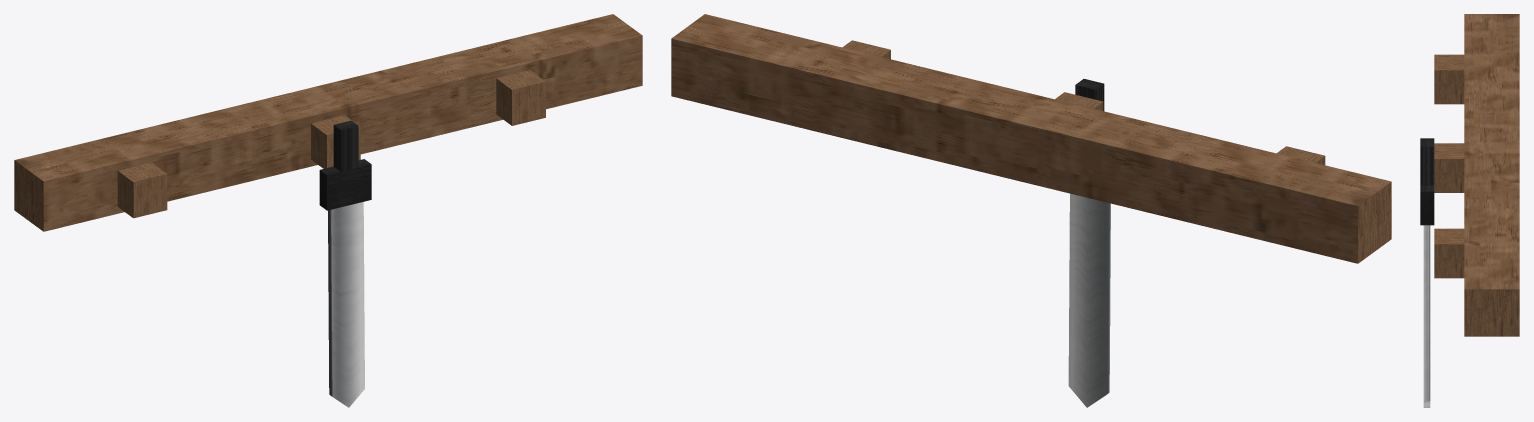
The model's file is weaponrack.fbx.
3 views of the same model, side by side, from view 1: azimuth 30°, elevation 25°; view 2: azimuth 150°, elevation 25°; view 3: azimuth 270°, elevation 25° (orthographic). The views are drawn at different scales.
Visible parts, largest first — view 1: pCube17, pCube15, pCube16, pCube18, pCube20, pCube19; view 2: pCube17, pCube15; view 3: pCube17, pCube20, pCube18, pCube19, pCube15, pCube16.
Boxes of the visible parts, x1=… form: pCube17: x1=14, y1=14, x2=642, y2=231; pCube15: x1=328, y1=202, x2=364, y2=407; pCube16: x1=319, y1=120, x2=371, y2=210; pCube18: x1=117, y1=162, x2=167, y2=218; pCube20: x1=496, y1=70, x2=545, y2=125; pCube19: x1=311, y1=115, x2=360, y2=168; pCube17: x1=671, y1=14, x2=1391, y2=263; pCube15: x1=1068, y1=193, x2=1110, y2=407; pCube17: x1=1464, y1=14, x2=1519, y2=336; pCube20: x1=1434, y1=228, x2=1464, y2=278; pCube18: x1=1434, y1=54, x2=1464, y2=104; pCube19: x1=1434, y1=143, x2=1464, y2=192; pCube15: x1=1423, y1=225, x2=1430, y2=407; pCube16: x1=1420, y1=138, x2=1434, y2=225.
Bounding box in the file's own units: 890 × 400 × 135.
Materials: 3 (3 with a texture image).
